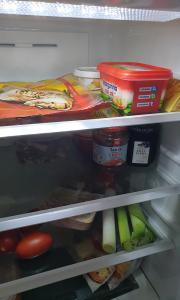Mantequilla: (98, 62, 174, 112)
Mermelada: (128, 124, 162, 168), (93, 128, 128, 170)
Puerro: (103, 204, 151, 251)
Tomate: (17, 230, 53, 260), (0, 228, 22, 256)
Tortillas de trigo: (0, 72, 110, 119)
